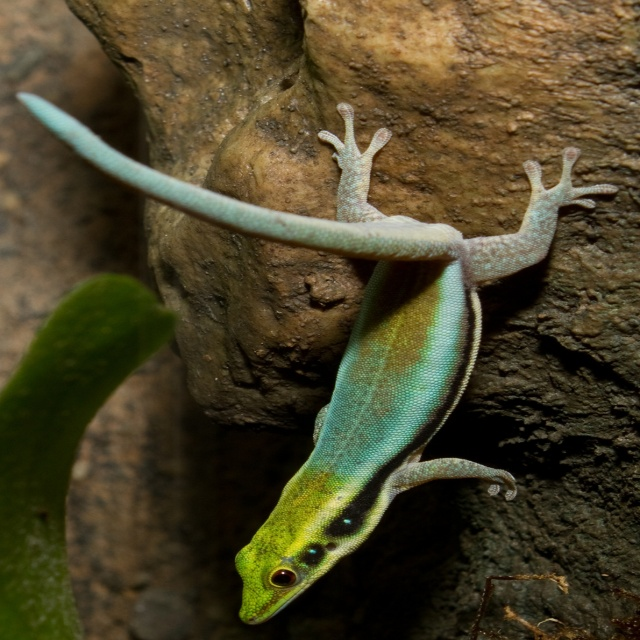Lizard: (19, 95, 614, 619)
